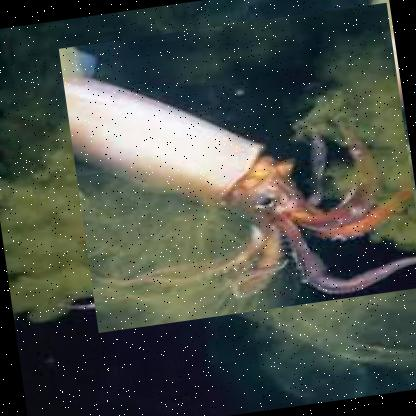colossal_squid: (58, 2, 415, 334)
